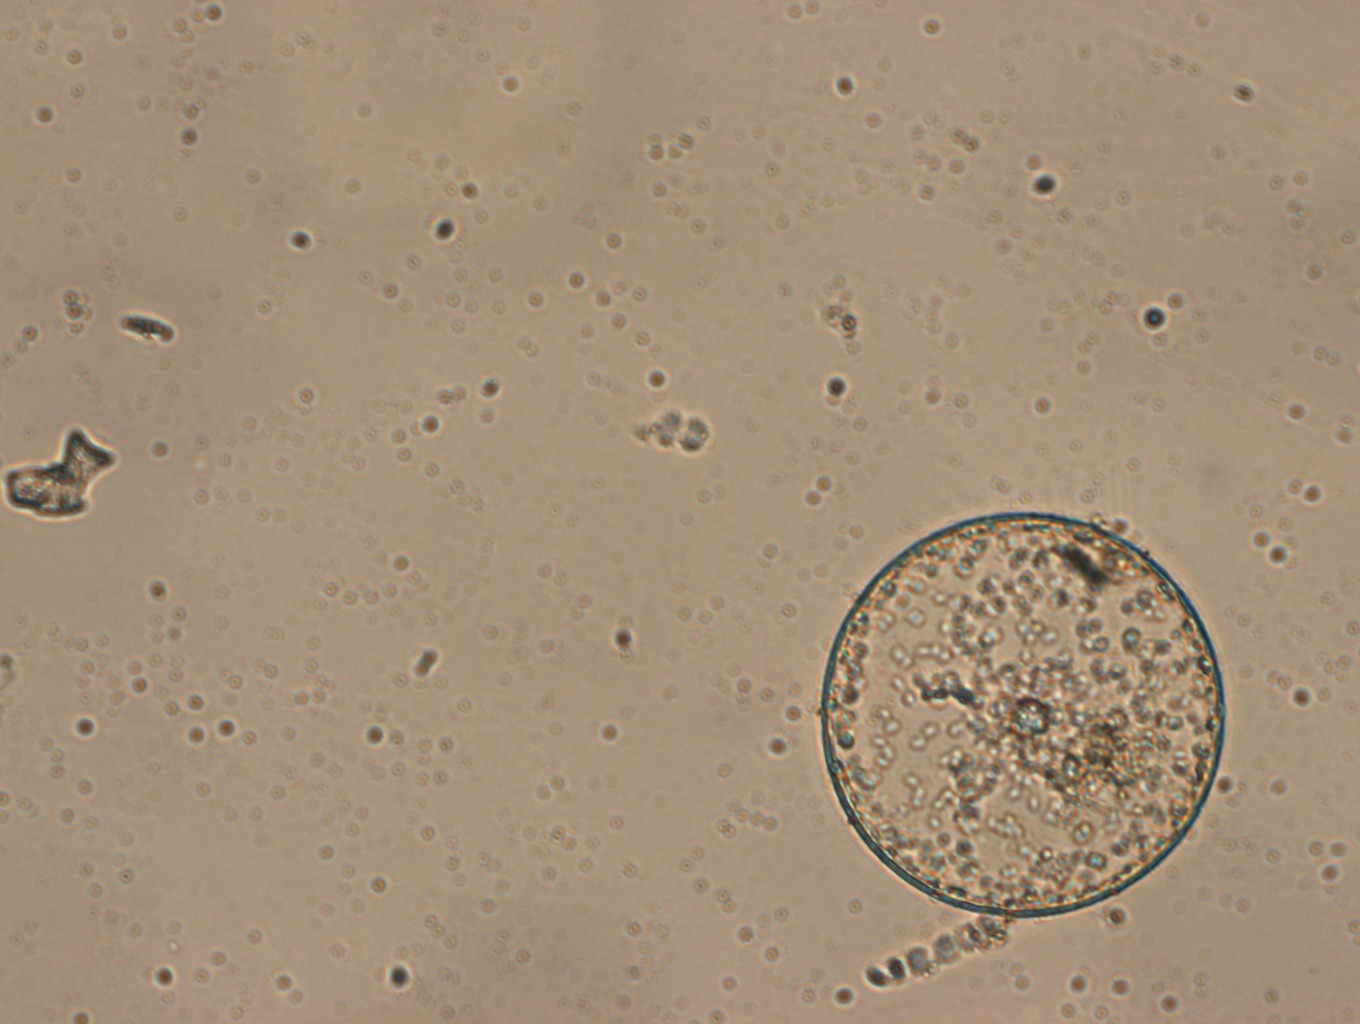coscinodiscus: (814, 506, 1231, 923)
